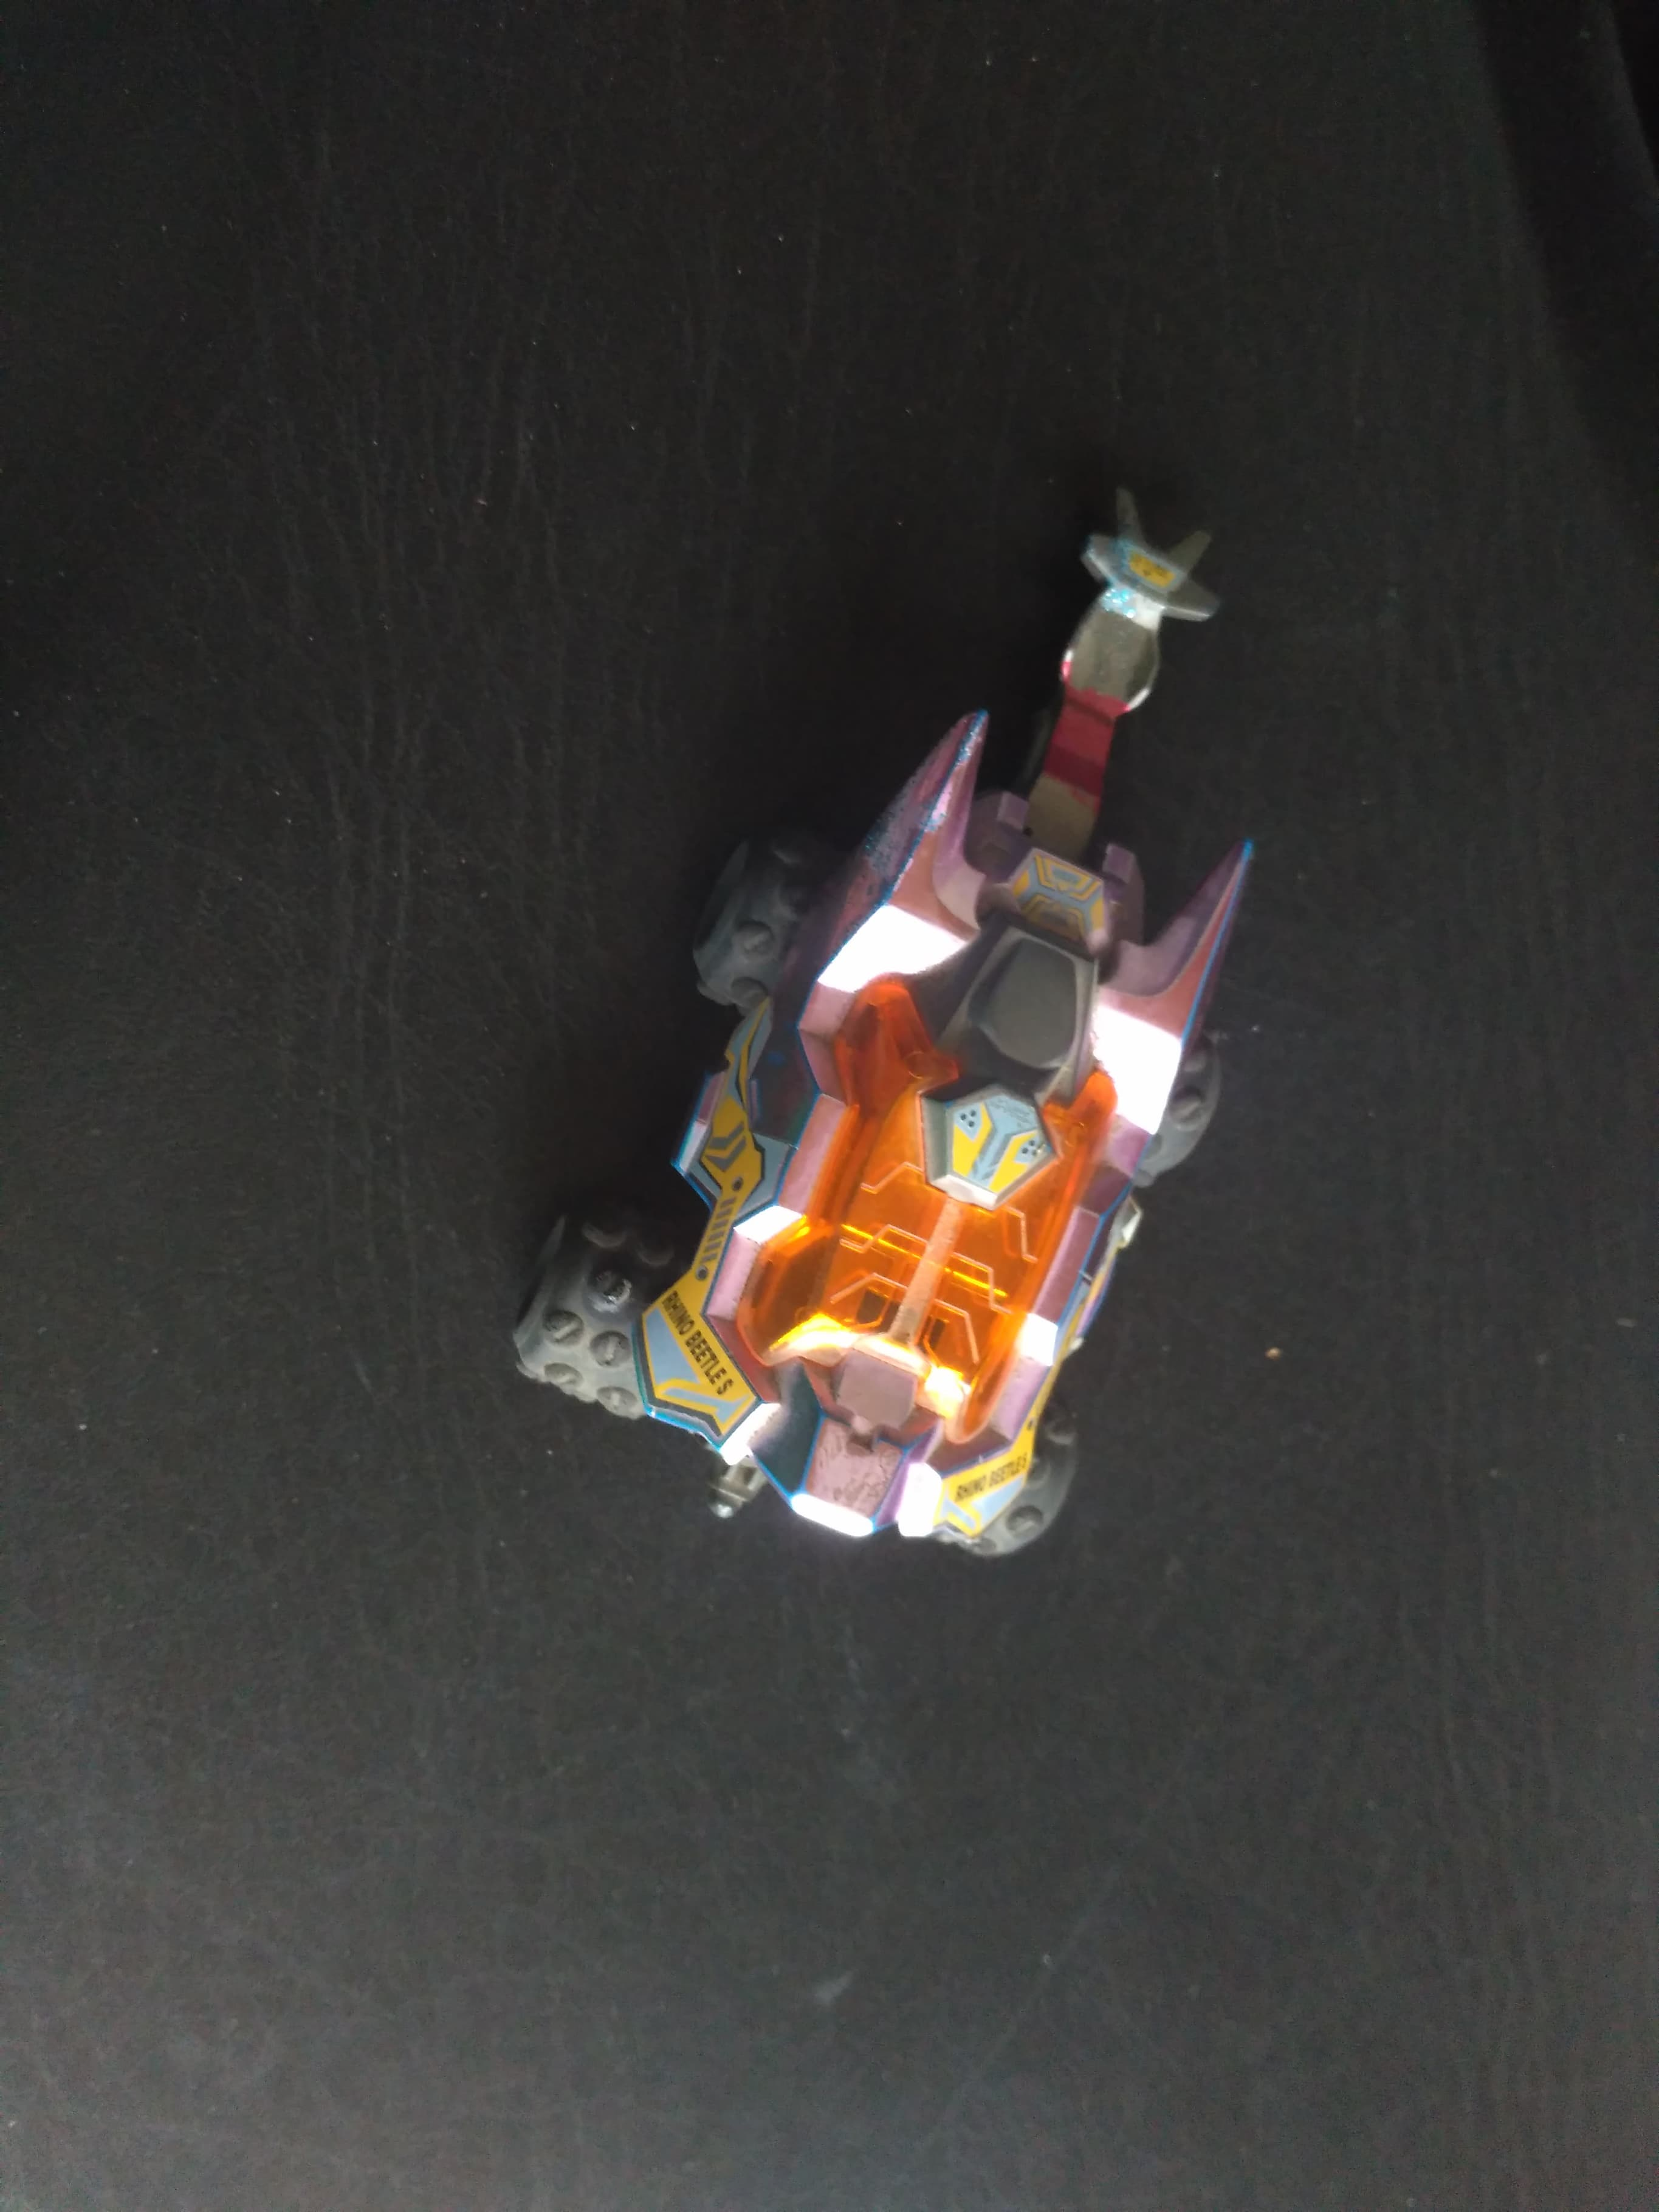rhino: (500, 482, 1269, 1562)
